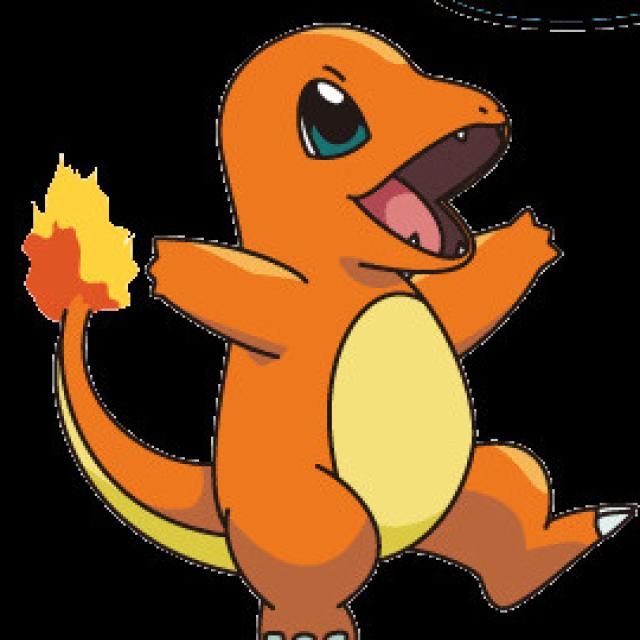Charmander: (136, 24, 565, 640)
